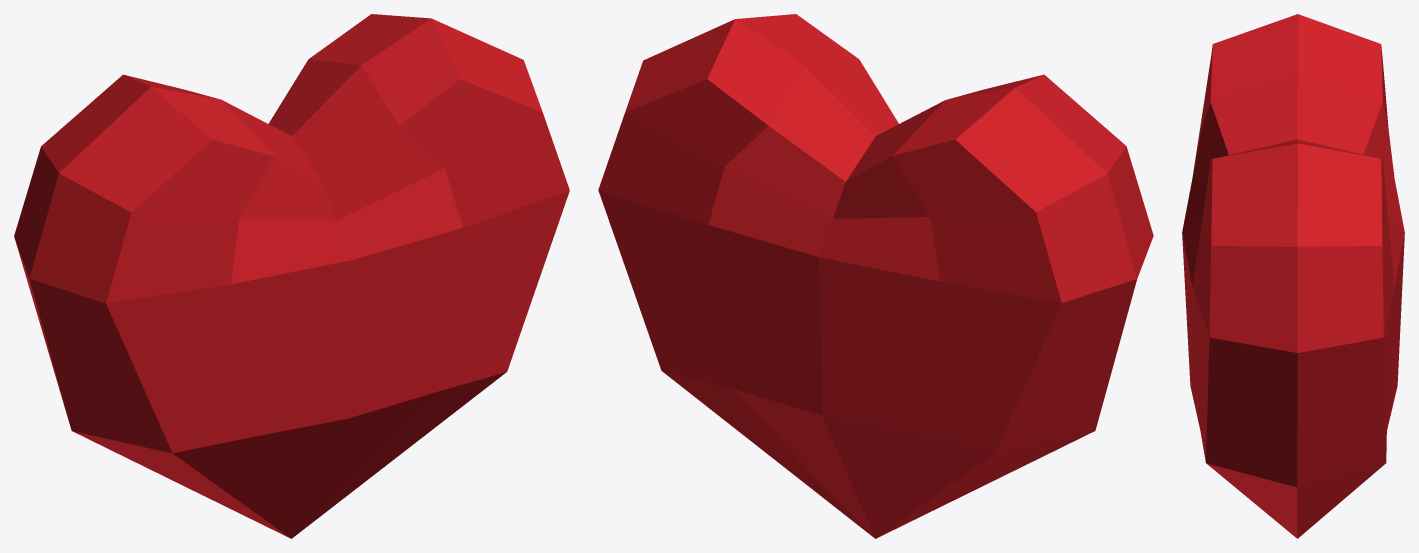
File: health.fbx
3 views of the same model, side by side, from view 1: azimuth 30°, elevation 25°; view 2: azimuth 150°, elevation 25°; view 3: azimuth 270°, elevation 25° (orthographic). The views are drawn at different scales.
Visible parts, largest first — view 1: Health; view 2: Health; view 3: Health.
Part boxes in pixels (x1,y1,x2,y2): Health: [14, 14, 569, 538]; Health: [598, 14, 1153, 538]; Health: [1182, 14, 1404, 538].
Size of the model in its own units: 226 by 200 by 87.91.
